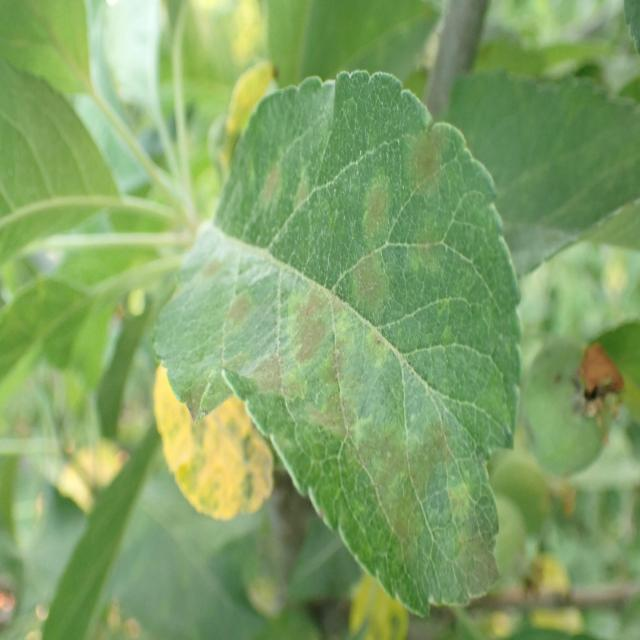scab: (172, 102, 514, 601)
